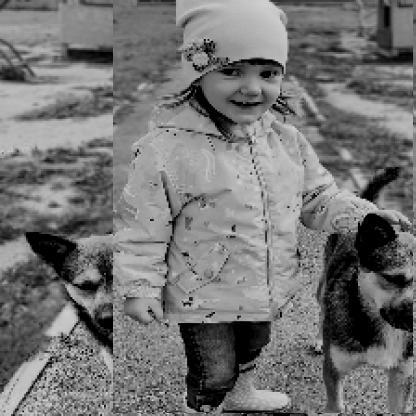child: (114, 1, 415, 415)
